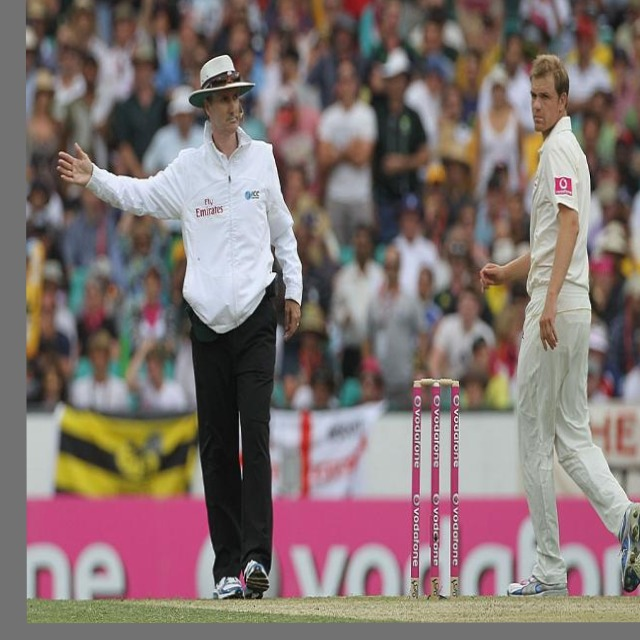No_Ball: (53, 45, 308, 598)
